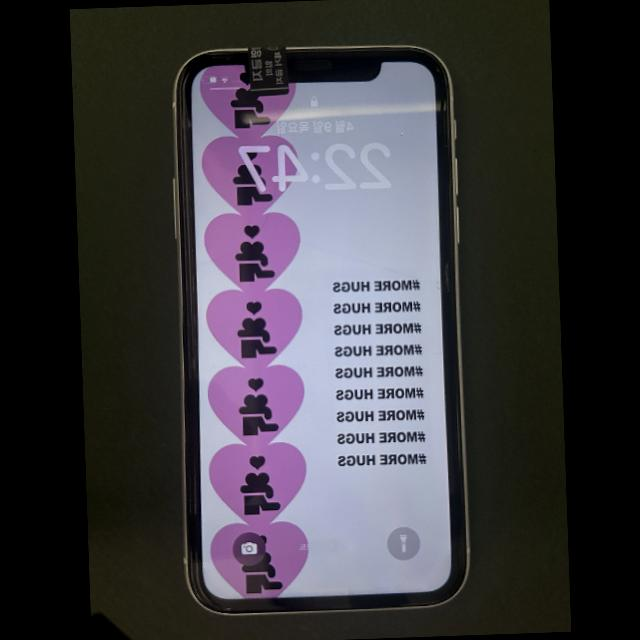phone: (173, 48, 467, 613)
sticker: (247, 45, 289, 96)
